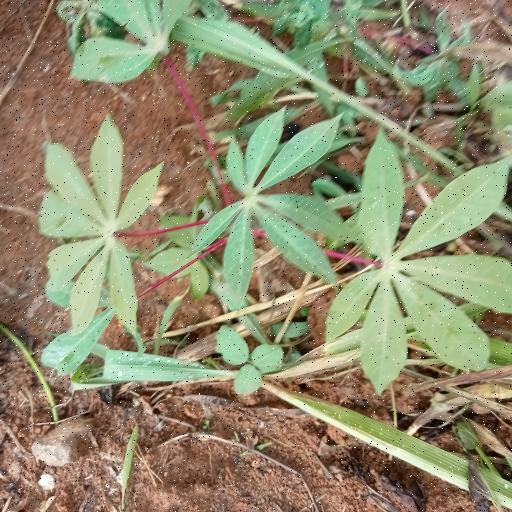Cassava_Mosaic: (332, 142, 510, 374), (34, 124, 166, 332)
